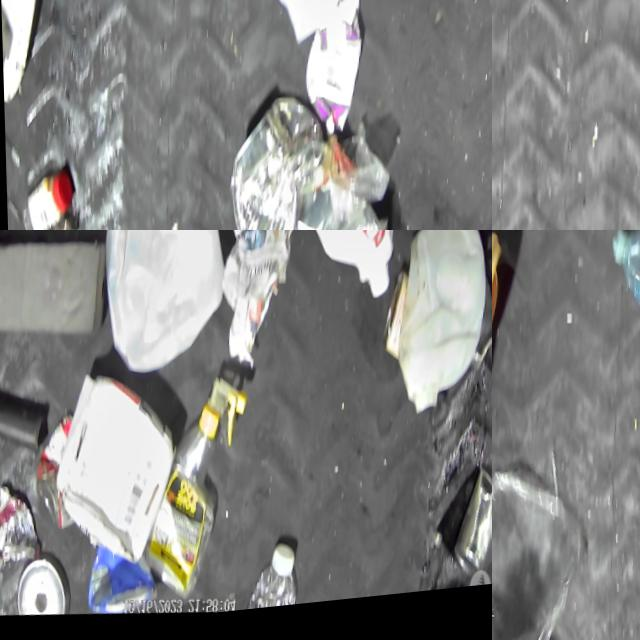can: (217, 90, 339, 230), (26, 408, 82, 542), (444, 473, 492, 598), (0, 479, 44, 586)
milk_jug: (89, 230, 238, 391), (384, 230, 492, 435), (265, 230, 412, 323), (233, 0, 369, 62)
plastic_bottle: (235, 543, 301, 617)
